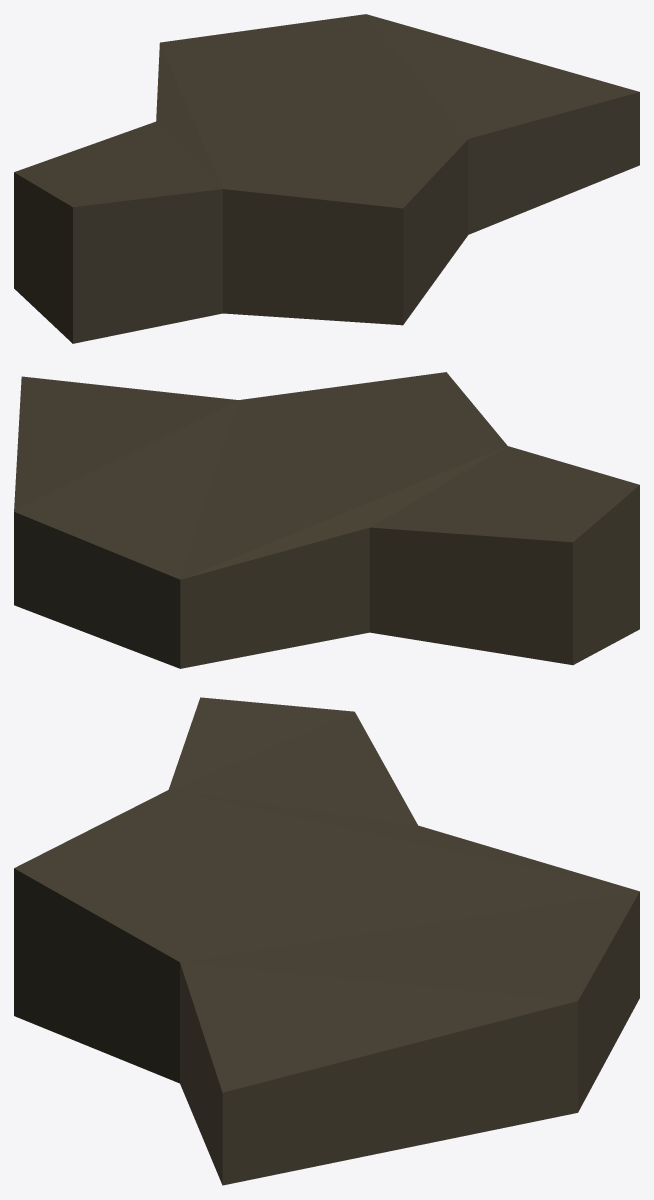
The model's file is EVT_CASTEL_FLOOR_2.OBJ.
The picture shows the model from 3 angles, top to bottom: view 1: azimuth 30°, elevation 25°; view 2: azimuth 150°, elevation 25°; view 3: azimuth 270°, elevation 25°; orthographic projection. The views are drawn at different scales.
Visible parts, largest first — view 1: EVT_CASTEL_FLOOR_2; view 2: EVT_CASTEL_FLOOR_2; view 3: EVT_CASTEL_FLOOR_2.
Boxes of the visible parts, x1,y1,x2,y2 form: EVT_CASTEL_FLOOR_2: [14, 14, 639, 343]; EVT_CASTEL_FLOOR_2: [14, 372, 639, 668]; EVT_CASTEL_FLOOR_2: [14, 697, 639, 1185].
Size of the model in its own units: 4.85 by 1.1 by 3.61.
